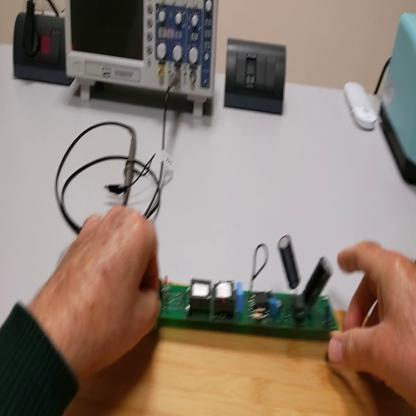hand: (51, 202, 163, 379), (330, 242, 415, 402)
high voltage board: (152, 234, 344, 340)
oscilloscope: (65, 4, 220, 123)
socket: (12, 11, 74, 88)
welder station: (380, 14, 416, 187)
working area: (61, 284, 416, 414)
